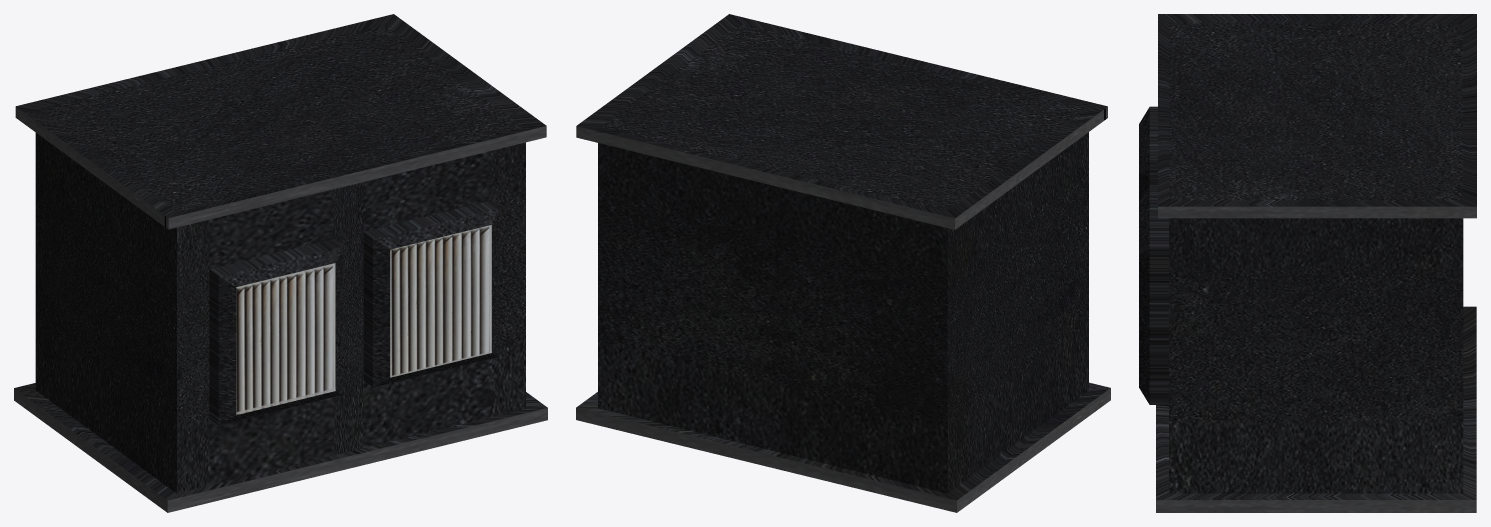
The model's file is buildingventila.obj.
3 renders of one model, left to right at view 1: azimuth 30°, elevation 25°; view 2: azimuth 150°, elevation 25°; view 3: azimuth 270°, elevation 25°, orthographic. The views are drawn at different scales.
Parts seen in each view (by area): view 1: Cube; view 2: Cube; view 3: Cube.
Part boxes in pixels (x1,y1,x2,y2): Cube: [14, 14, 547, 512]; Cube: [576, 14, 1110, 512]; Cube: [1139, 14, 1476, 512].
Size of the model in its own units: 10.89 by 8.05 by 8.03.
